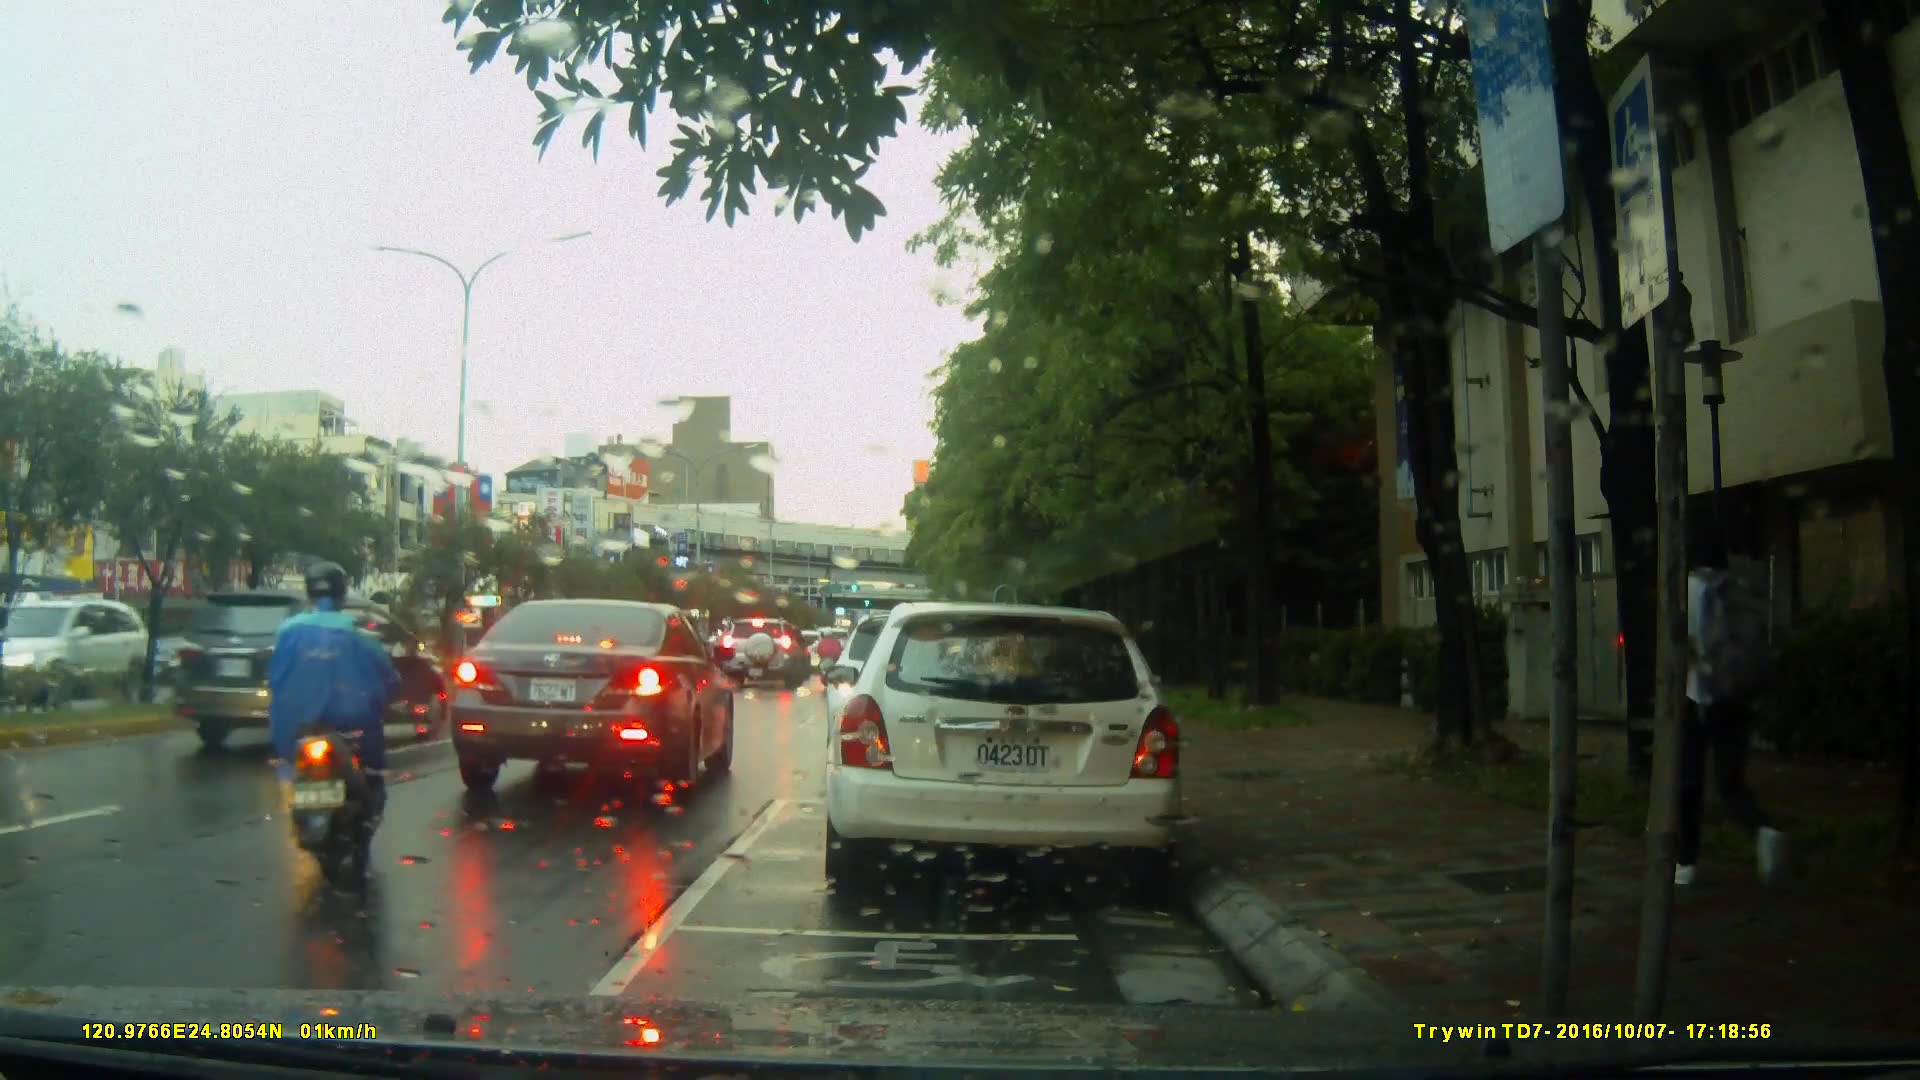pedestrian: (1635, 508, 1800, 896)
rider: (270, 557, 404, 882), (648, 604, 708, 714), (816, 625, 851, 698)
vehicle: (820, 602, 1188, 898), (450, 597, 739, 803), (174, 587, 448, 749), (6, 601, 165, 704), (725, 617, 809, 691)
